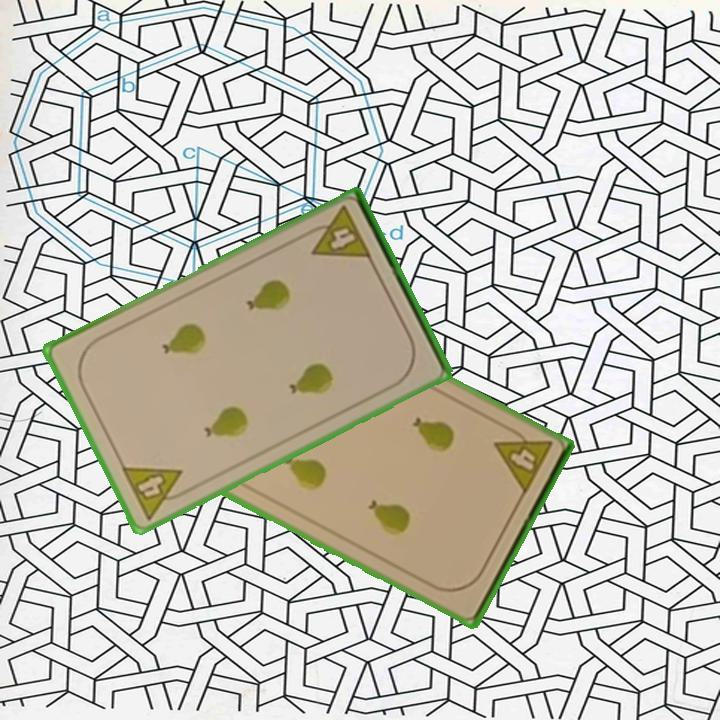4p: (490, 422, 555, 498), (117, 462, 194, 523), (300, 203, 375, 263)
